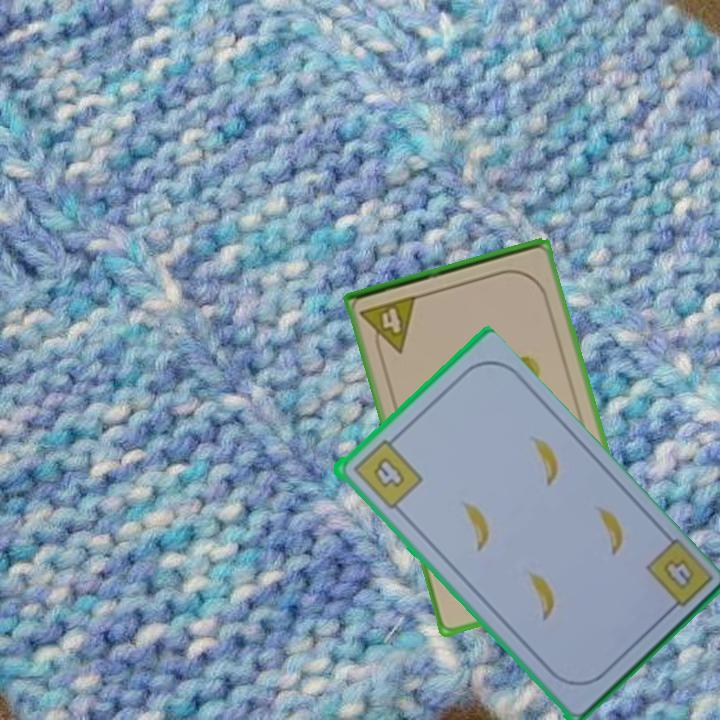4b: (349, 432, 425, 512), (641, 536, 714, 619)
4p: (357, 292, 421, 360)
